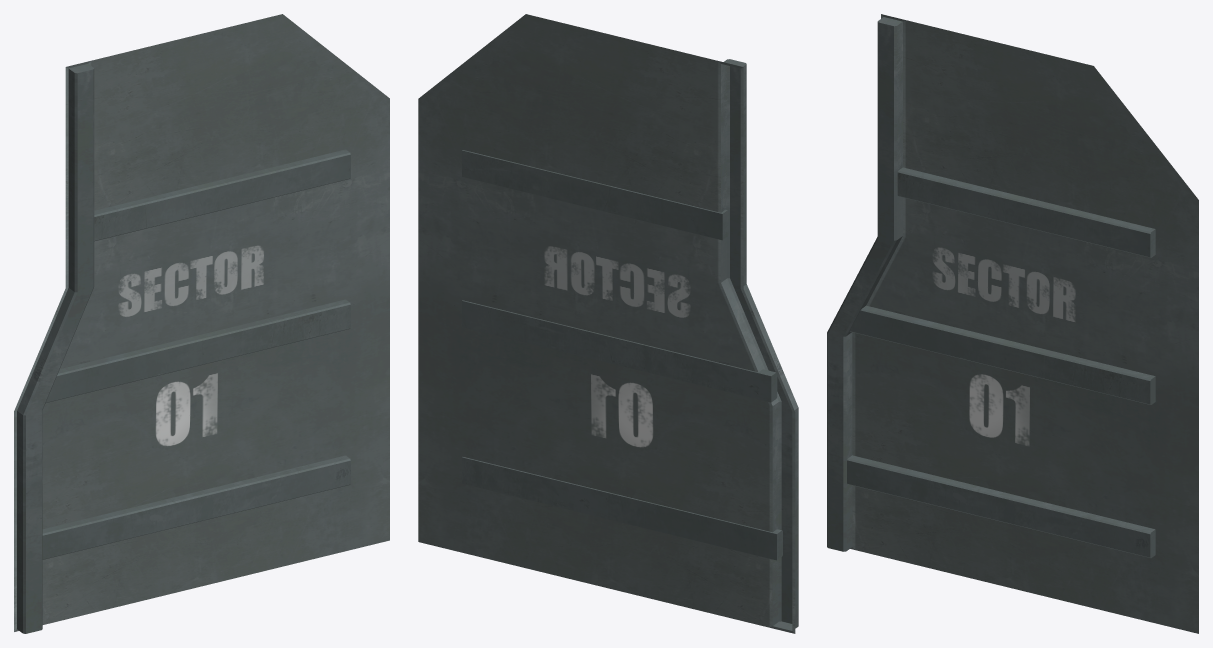
Rendered from PuertaAlienPanelDerecho.obj.
3 views of the same model, side by side, from view 1: azimuth 30°, elevation 25°; view 2: azimuth 150°, elevation 25°; view 3: azimuth 330°, elevation 25° (orthographic). The views are drawn at different scales.
Parts seen in each view (by area): view 1: Plane.001_Material.002; view 2: Plane.001_Material.002; view 3: Plane.001_Material.002.
Part boxes in pixels (left/top/right/bottom): Plane.001_Material.002: left=14, top=14, right=389, bottom=633; Plane.001_Material.002: left=418, top=14, right=798, bottom=633; Plane.001_Material.002: left=827, top=14, right=1198, bottom=633.
Bounding box in the file's own units: 5.34 × 7.5 × 0.195.
